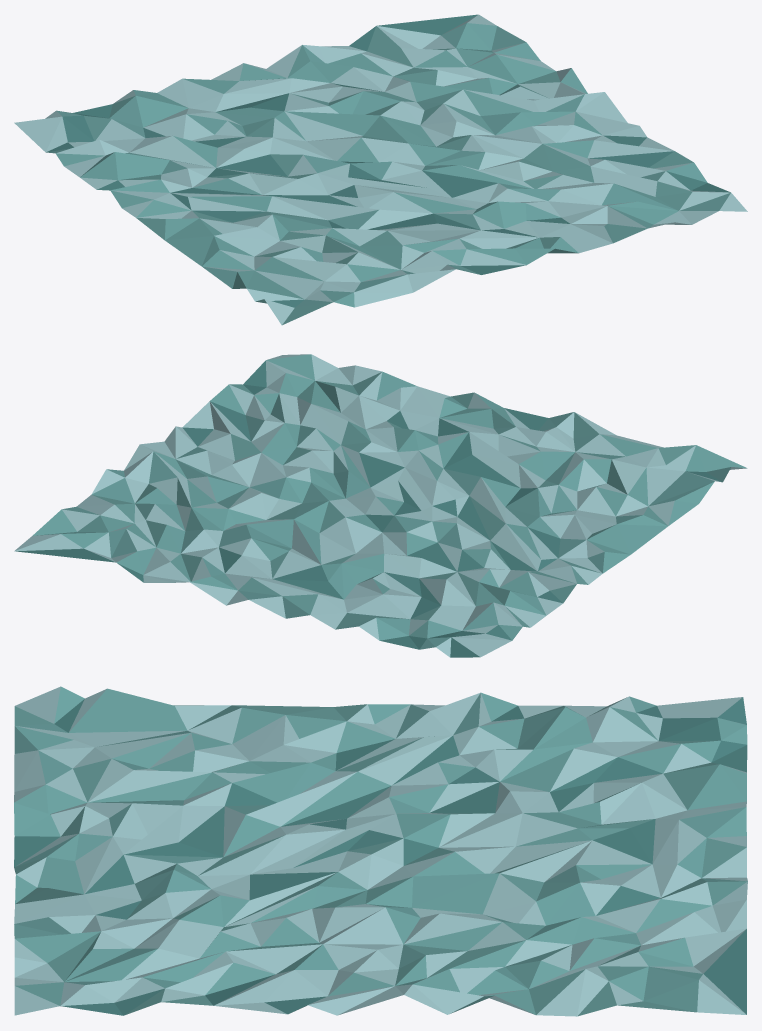
File: ground.dae
3 views of the same model, one above another, from view 1: azimuth 30°, elevation 25°; view 2: azimuth 150°, elevation 25°; view 3: azimuth 270°, elevation 25° (orthographic). The views are drawn at different scales.
Visible parts, largest first — view 1: Plane; view 2: Plane; view 3: Plane.
Part boxes in pixels (<box>): Plane: <box>14,14,747,325</box>; Plane: <box>14,354,747,657</box>; Plane: <box>14,686,747,1016</box>.
Bounding box in the file's own units: 25.22 × 25.21 × 1.
